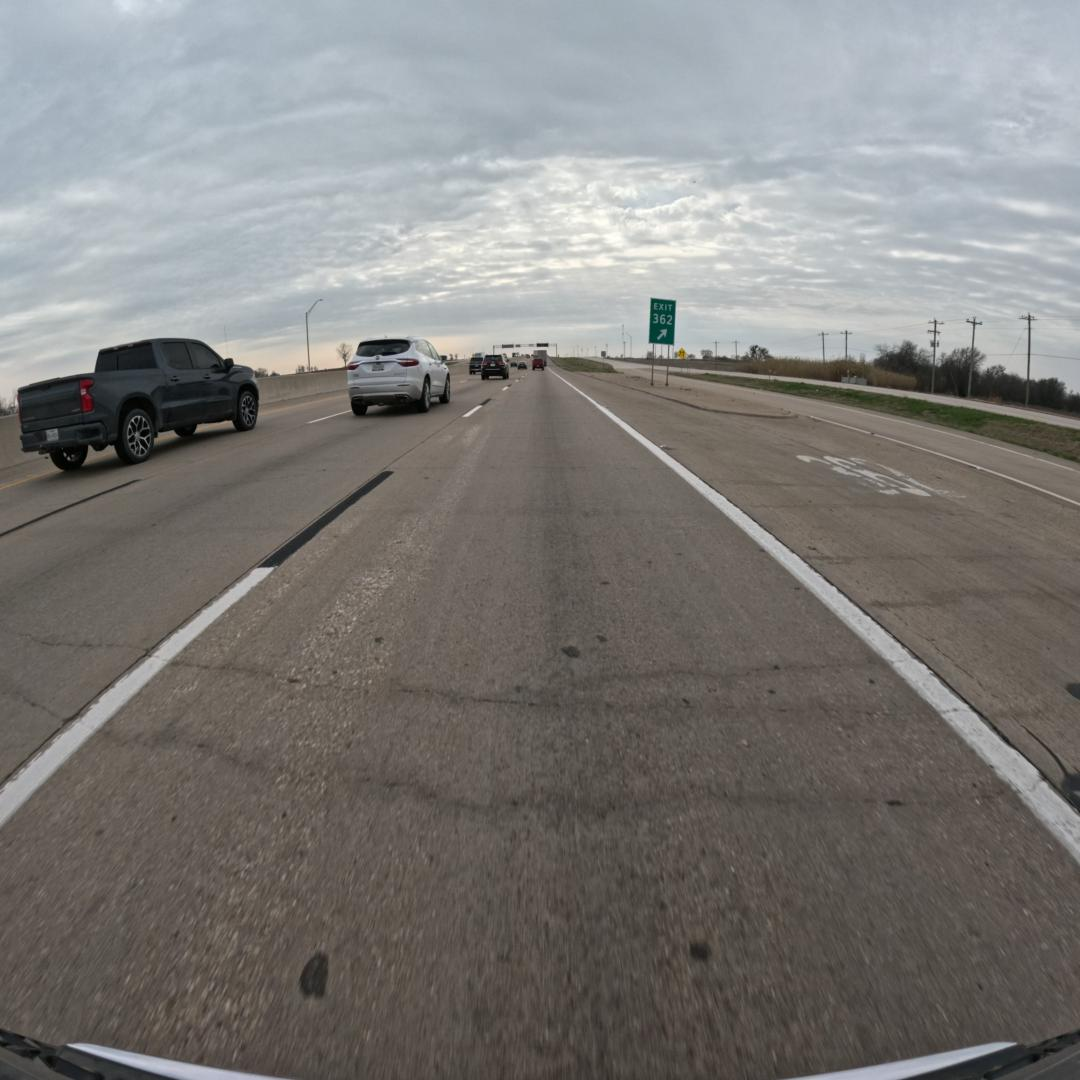lane0: (0, 372, 1080, 1076)
lane1: (0, 379, 506, 783)
